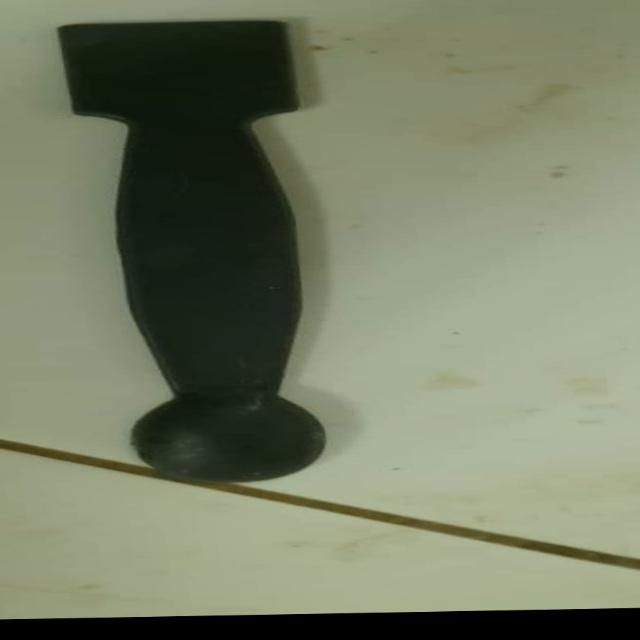Spatula: (52, 18, 396, 494)
